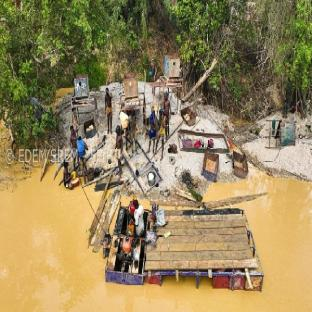Person: (114, 124, 125, 180), (102, 88, 114, 135), (62, 160, 77, 188)
ProcessingEquipment: (105, 202, 266, 294), (151, 35, 185, 118), (65, 69, 102, 137)
